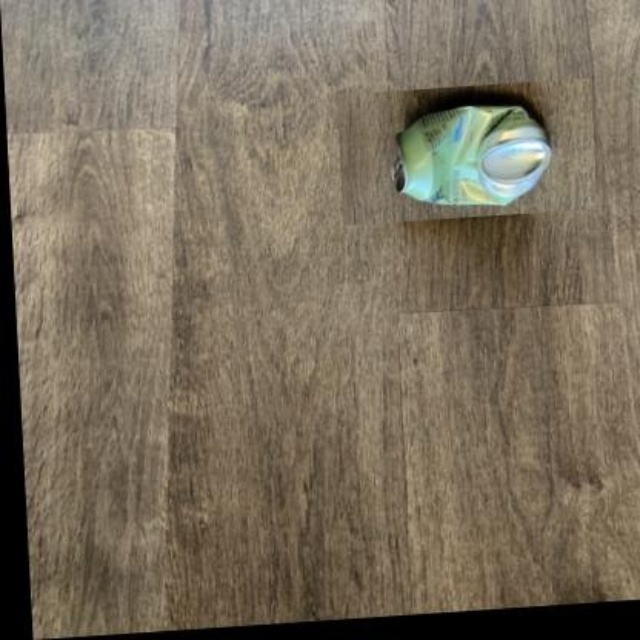trash: (398, 106, 549, 205)
